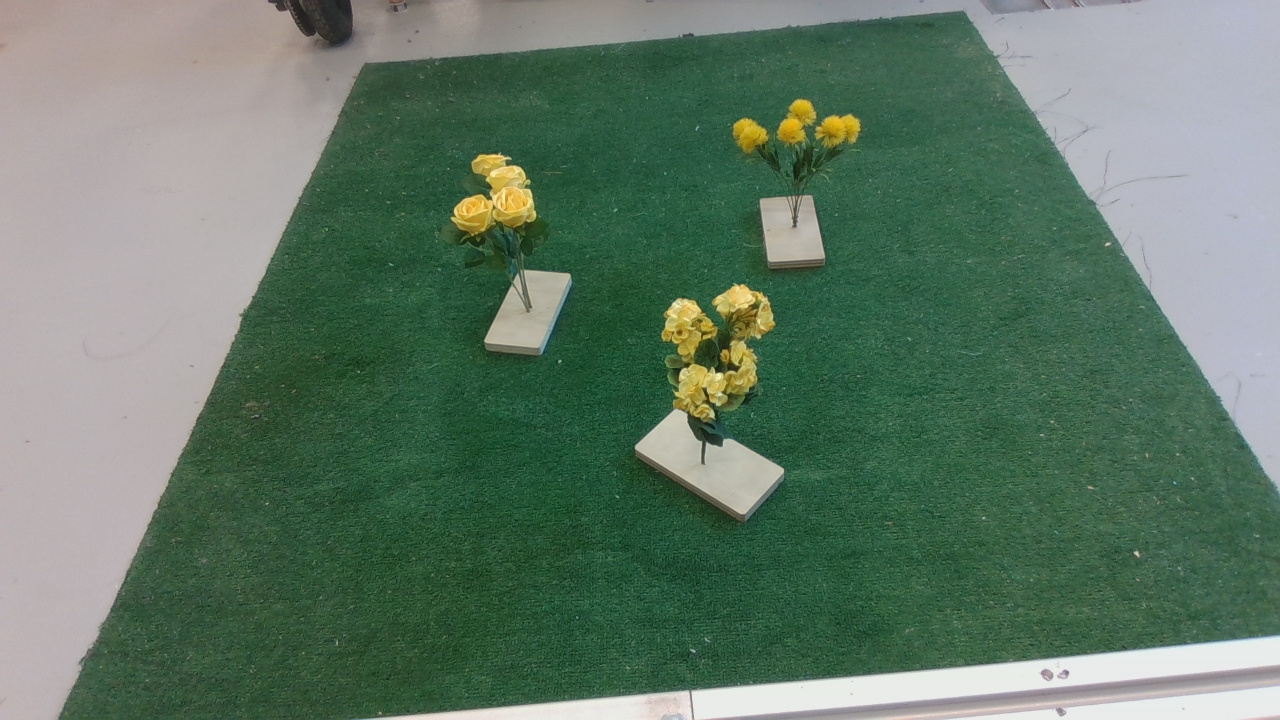dandelion: (727, 94, 874, 199)
geranium: (653, 286, 790, 455)
rose: (443, 152, 558, 280)
